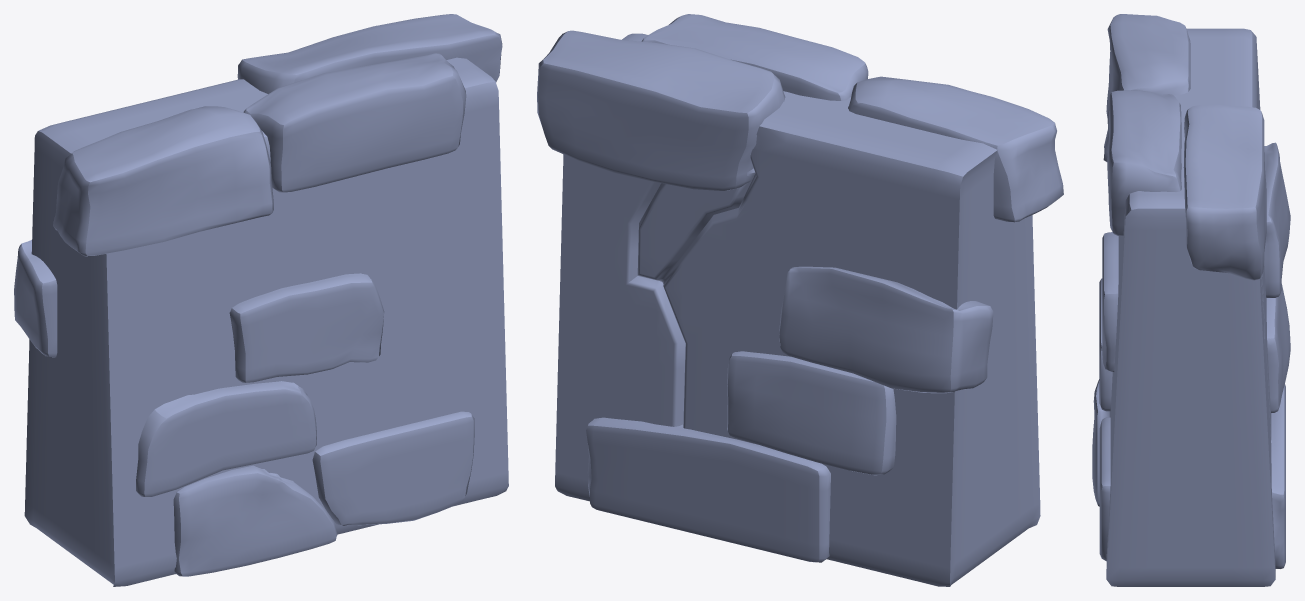
Rendered from Wall_S_3.fbx.
3 renders of one model, left to right at view 1: azimuth 30°, elevation 25°; view 2: azimuth 150°, elevation 25°; view 3: azimuth 270°, elevation 25°, orthographic. The views are drawn at different scales.
Parts seen in each view (by area): view 1: wall_S_C; view 2: wall_S_C; view 3: wall_S_C.
Part boxes in pixels (x1,y1,x2,y2): wall_S_C: [14, 14, 508, 586]; wall_S_C: [537, 14, 1063, 586]; wall_S_C: [1092, 14, 1290, 586].
Bounding box in the file's own units: 5.88 × 5.38 × 2.33.
